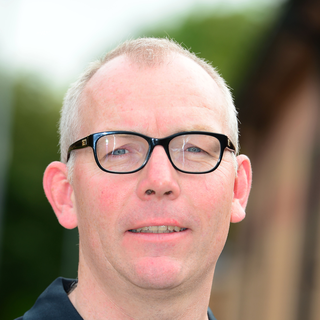eye: (175, 140, 216, 162), (102, 143, 136, 159)
